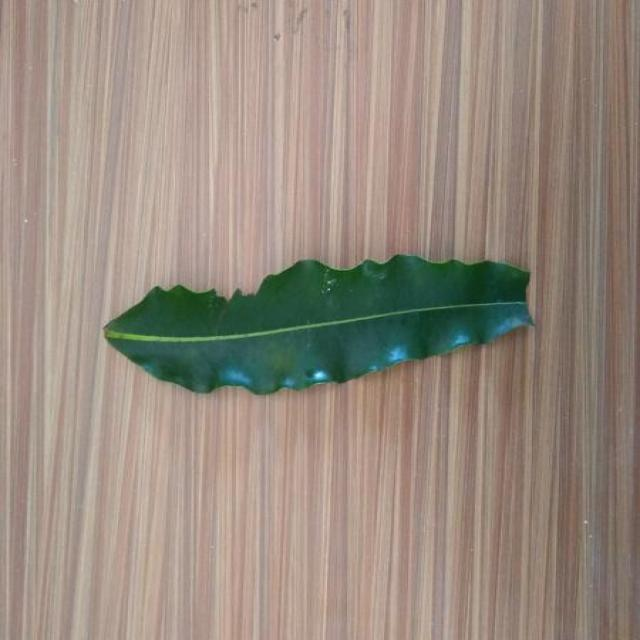ashoka: (105, 255, 529, 394)
defectedashoka: (123, 255, 528, 334)
